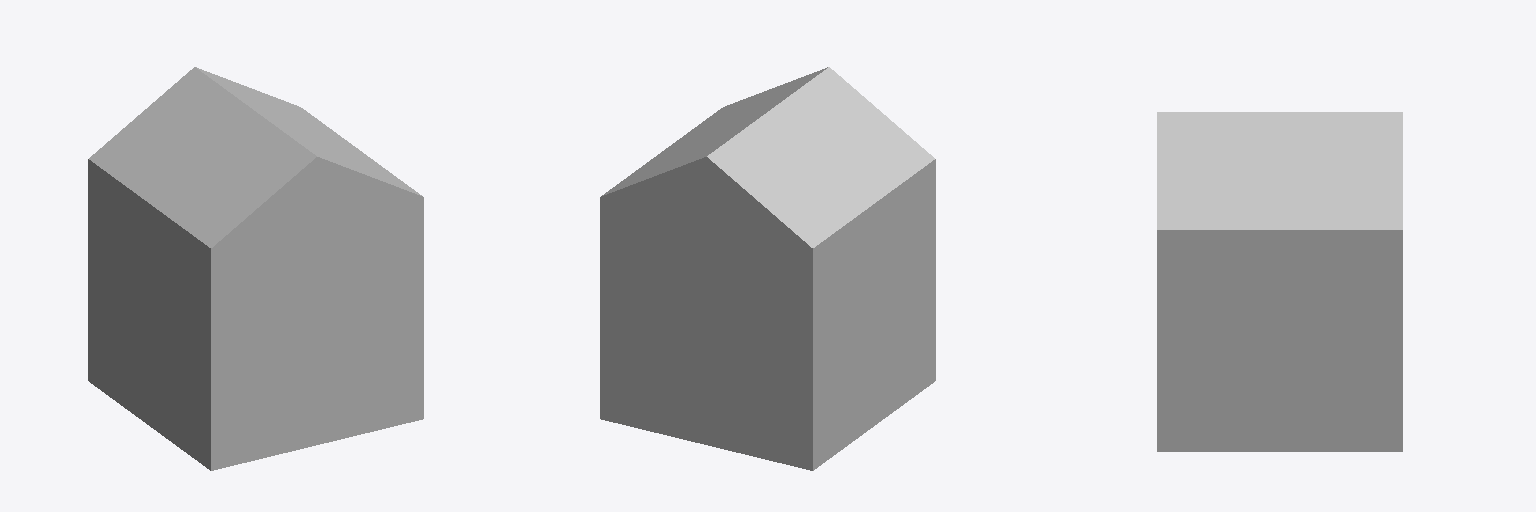
The model's file is house.obj.
3 views of the same model, side by side, from view 1: azimuth 30°, elevation 25°; view 2: azimuth 150°, elevation 25°; view 3: azimuth 270°, elevation 25° (orthographic).
Visible parts, largest first — view 1: Cube_Cube.001; view 2: Cube_Cube.001; view 3: Cube_Cube.001.
Part boxes in pixels (x1,y1,x2,y2): Cube_Cube.001: (88, 67, 423, 470); Cube_Cube.001: (600, 67, 935, 470); Cube_Cube.001: (1157, 112, 1402, 451).
Bounding box in the file's own units: 2 × 2.6 × 2.